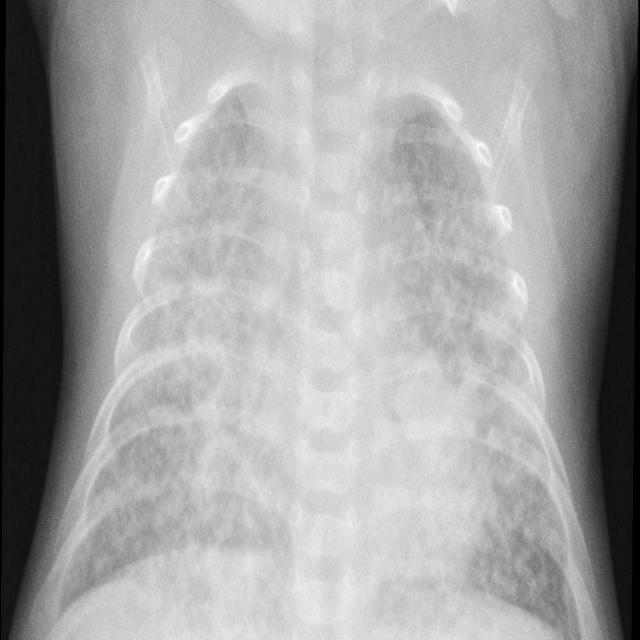high-pneumonia: (62, 93, 281, 596), (390, 110, 558, 542), (451, 476, 536, 587)
